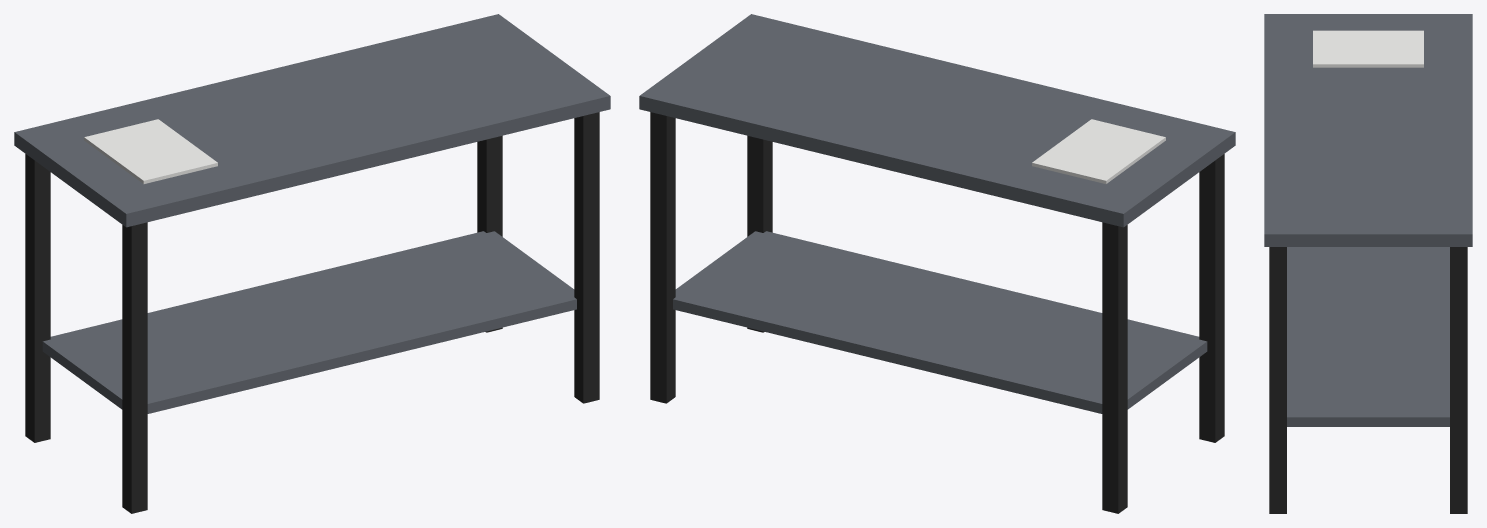
File: ENV_WorkBench.fbx
3 views of the same model, side by side, from view 1: azimuth 30°, elevation 25°; view 2: azimuth 150°, elevation 25°; view 3: azimuth 270°, elevation 25° (orthographic). The views are drawn at different scales.
Visible parts, largest first — view 1: ENV_WorkBench, Shelf, Leg, Leg.002, Leg.001, Clipboard, Leg.003; view 2: ENV_WorkBench, Shelf, Leg.001, Leg.003, Leg, Clipboard, Leg.002; view 3: ENV_WorkBench, Shelf, Leg.002, Leg.003, Clipboard.
Boxes of the visible parts, x1=… form: ENV_WorkBench: x1=14, y1=14, x2=610, y2=227; Shelf: x1=42, y1=231, x2=576, y2=413; Leg: x1=122, y1=222, x2=147, y2=513; Leg.002: x1=574, y1=112, x2=599, y2=403; Leg.001: x1=25, y1=154, x2=50, y2=442; Clipboard: x1=84, y1=119, x2=217, y2=183; Leg.003: x1=477, y1=135, x2=502, y2=332; ENV_WorkBench: x1=639, y1=14, x2=1235, y2=227; Shelf: x1=673, y1=231, x2=1207, y2=413; Leg.001: x1=1102, y1=222, x2=1127, y2=513; Leg.003: x1=650, y1=112, x2=675, y2=403; Leg: x1=1199, y1=154, x2=1224, y2=442; Clipboard: x1=1032, y1=119, x2=1165, y2=183; Leg.002: x1=747, y1=135, x2=772, y2=332; ENV_WorkBench: x1=1264, y1=14, x2=1472, y2=246; Shelf: x1=1287, y1=247, x2=1449, y2=426; Leg.002: x1=1269, y1=247, x2=1286, y2=513; Leg.003: x1=1450, y1=247, x2=1467, y2=513; Clipboard: x1=1313, y1=30, x2=1423, y2=67.
Size of the model in its own units: 1.5 by 0.91 by 0.6.
Materials: 2 (2 with a texture image).
